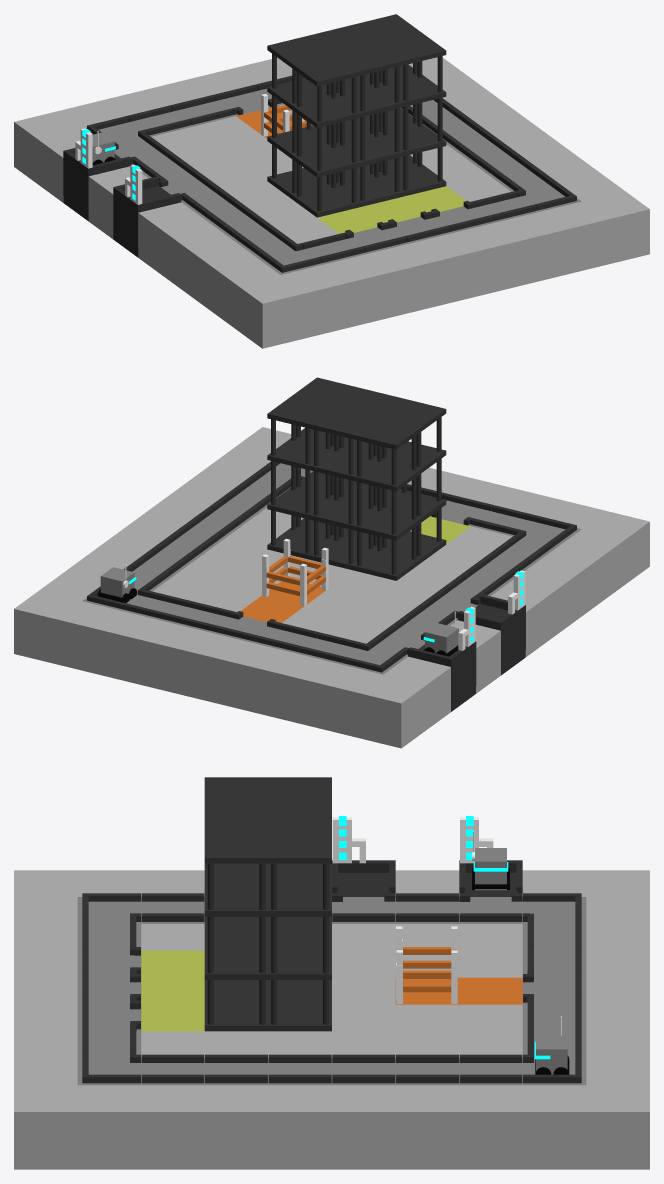
The model's file is miniWarehouse.glb.
3 views of the same model, one above another, from view 1: azimuth 30°, elevation 25°; view 2: azimuth 150°, elevation 25°; view 3: azimuth 270°, elevation 25° (orthographic). The views are drawn at different scales.
Visible parts, largest first — view 1: FloorCell (85), FloorCell (61), FloorCell (62), FloorCell (63), FloorCell (64), FloorCell (66), FloorCell (67), FloorCell (65), FloorCell (68), FloorCell (81), FloorCell (82), FloorCell (80) (+83 smaller); view 2: FloorCell (80), FloorCell (3), FloorCell (5), FloorCell (6), FloorCell (4), FloorCell (7), FloorCell (1), FloorCell (2), FloorCell, FloorCell (83), FloorCell (84), FloorCell (85) (+87 smaller); view 3: FloorCell (31), FloorCell (48), FloorCell (53), FloorCell (8), FloorCell, FloorCell (16), FloorCell (32), FloorCell (40), FloorCell (68), FloorCell (74), Cube (7), Cube (7).003 (+111 smaller).
Part boxes in pixels (x1=…): FloorCell (85): x1=237, y1=275, x2=305, y2=348; FloorCell (61): x1=324, y1=254, x2=391, y2=327; FloorCell (62): x1=281, y1=264, x2=348, y2=337; FloorCell (63): x1=367, y1=243, x2=434, y2=316; FloorCell (64): x1=410, y1=233, x2=477, y2=306; FloorCell (66): x1=453, y1=222, x2=520, y2=295; FloorCell (67): x1=539, y1=201, x2=606, y2=275; FloorCell (65): x1=496, y1=212, x2=563, y2=285; FloorCell (68): x1=582, y1=191, x2=649, y2=264; FloorCell (81): x1=138, y1=202, x2=205, y2=275; FloorCell (82): x1=163, y1=220, x2=230, y2=293; FloorCell (80): x1=14, y1=111, x2=80, y2=184; FloorCell (80): x1=358, y1=675, x2=426, y2=748; FloorCell (3): x1=143, y1=622, x2=210, y2=695; FloorCell (5): x1=229, y1=643, x2=296, y2=716; FloorCell (6): x1=315, y1=664, x2=382, y2=737; FloorCell (4): x1=186, y1=633, x2=253, y2=706; FloorCell (7): x1=272, y1=654, x2=339, y2=727; FloorCell (1): x1=57, y1=601, x2=124, y2=674; FloorCell (2): x1=100, y1=612, x2=167, y2=685; FloorCell: x1=14, y1=591, x2=81, y2=664; FloorCell (83): x1=533, y1=547, x2=600, y2=620; FloorCell (84): x1=557, y1=529, x2=624, y2=602; FloorCell (85): x1=582, y1=511, x2=649, y2=584; FloorCell (31): x1=395, y1=1085, x2=459, y2=1169; FloorCell (48): x1=204, y1=1085, x2=268, y2=1169; FloorCell (53): x1=77, y1=1085, x2=141, y2=1169; FloorCell (8): x1=522, y1=1085, x2=586, y2=1169; FloorCell: x1=586, y1=1085, x2=649, y2=1169; FloorCell (16): x1=459, y1=1085, x2=522, y2=1169; FloorCell (32): x1=332, y1=1085, x2=395, y2=1169; FloorCell (40): x1=268, y1=1085, x2=331, y2=1169; FloorCell (68): x1=14, y1=1085, x2=77, y2=1169; FloorCell (74): x1=141, y1=1085, x2=204, y2=1169; Cube (7): x1=204, y1=831, x2=268, y2=863; Cube (7).003: x1=268, y1=831, x2=331, y2=863.
Bounding box in the file's own units: 9.01 × 4.01 × 10.
